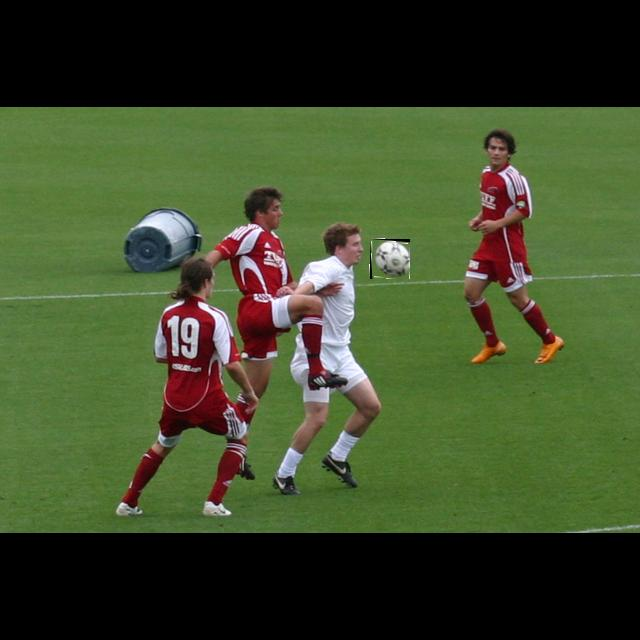Football: (370, 239, 410, 279)
